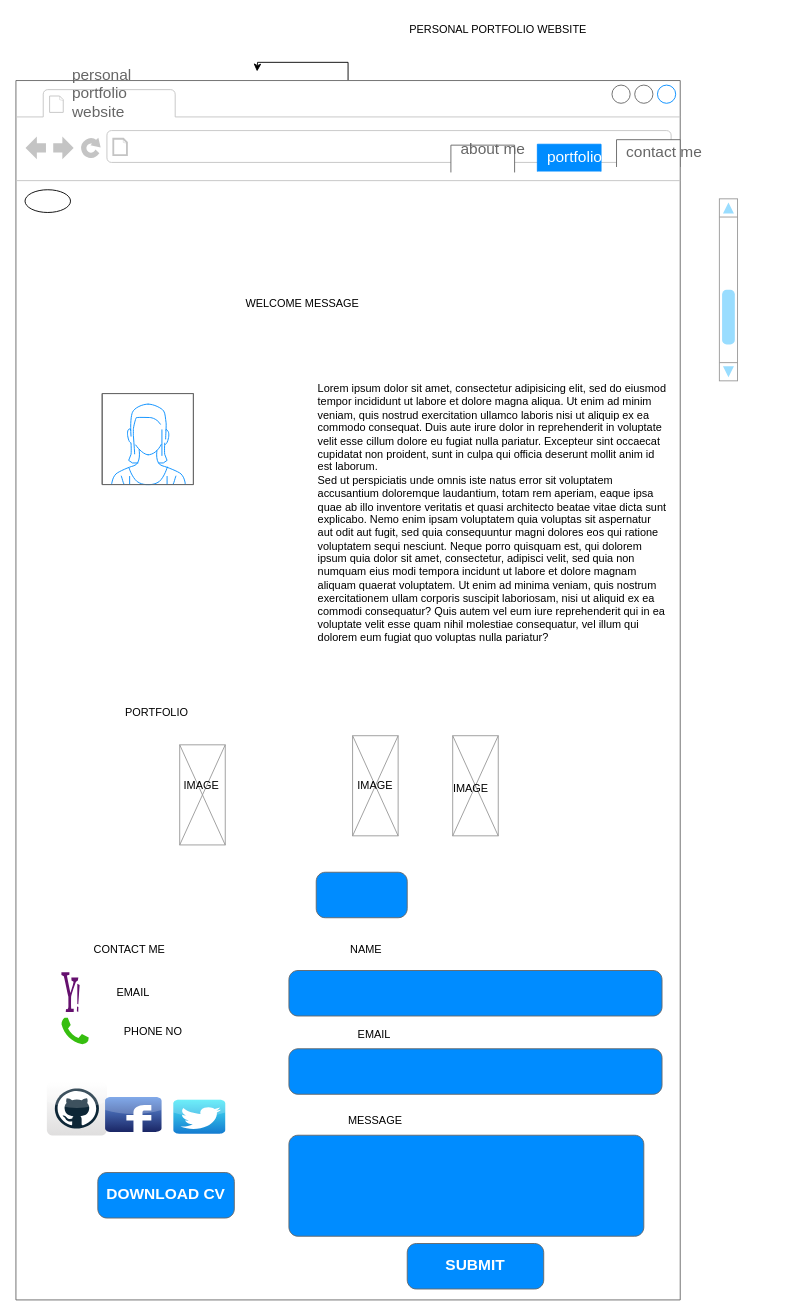
The diagram is 787 pixels wide and 1316 high, and some of its shapes have lost their labels. Here are the shapes that lost their labels. From the top down, the centre of each, then its label:
the point at 247,146: 127.0.0.1:5500/index.html
the point at 47,200: logo
the point at 361,894: SEE MORE
